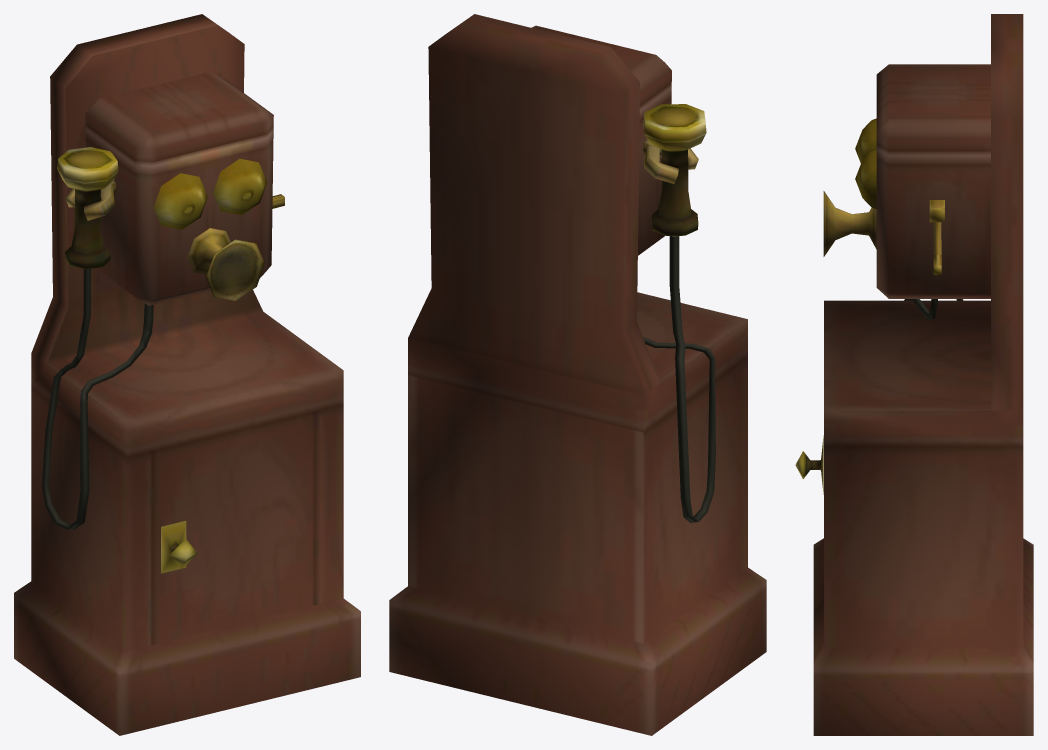
Rendered from int_oth_retro_tel.dae.
3 views of the same model, side by side, from view 1: azimuth 30°, elevation 25°; view 2: azimuth 150°, elevation 25°; view 3: azimuth 270°, elevation 25° (orthographic). The views are drawn at different scales.
Visible parts, largest first — view 1: int_oth_retro_tel; view 2: int_oth_retro_tel; view 3: int_oth_retro_tel.
Boxes of the visible parts, box(x1,y1,x2,y2) form: int_oth_retro_tel: box(14, 14, 360, 735); int_oth_retro_tel: box(389, 14, 766, 735); int_oth_retro_tel: box(795, 14, 1033, 735).
Bounding box in the file's own units: 21.82 × 51.36 × 17.64.
1 material, 1 textured.
